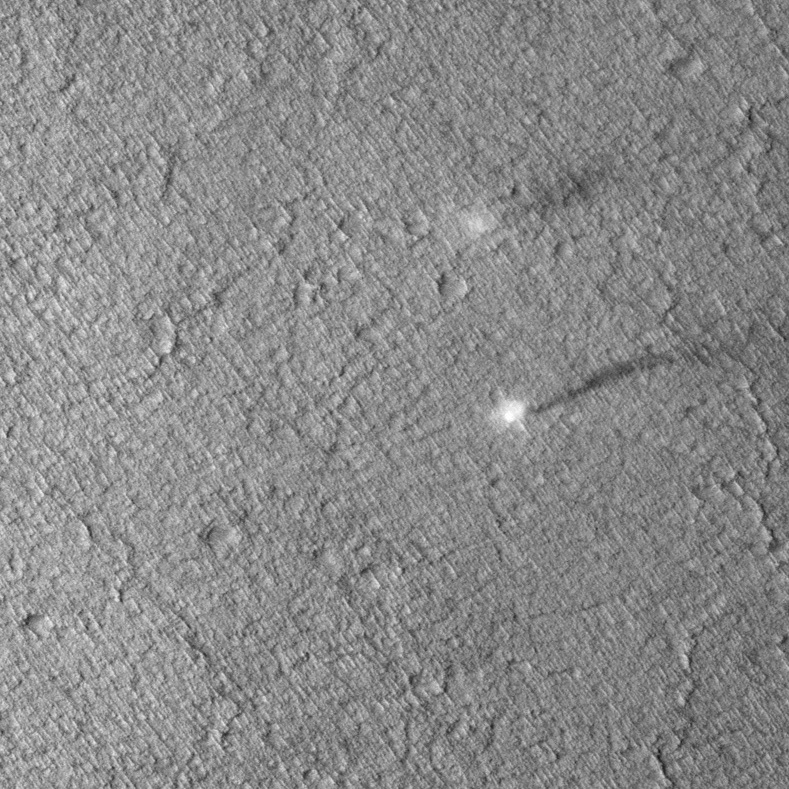dust_devil: (497, 345, 701, 429), (461, 157, 611, 241)
